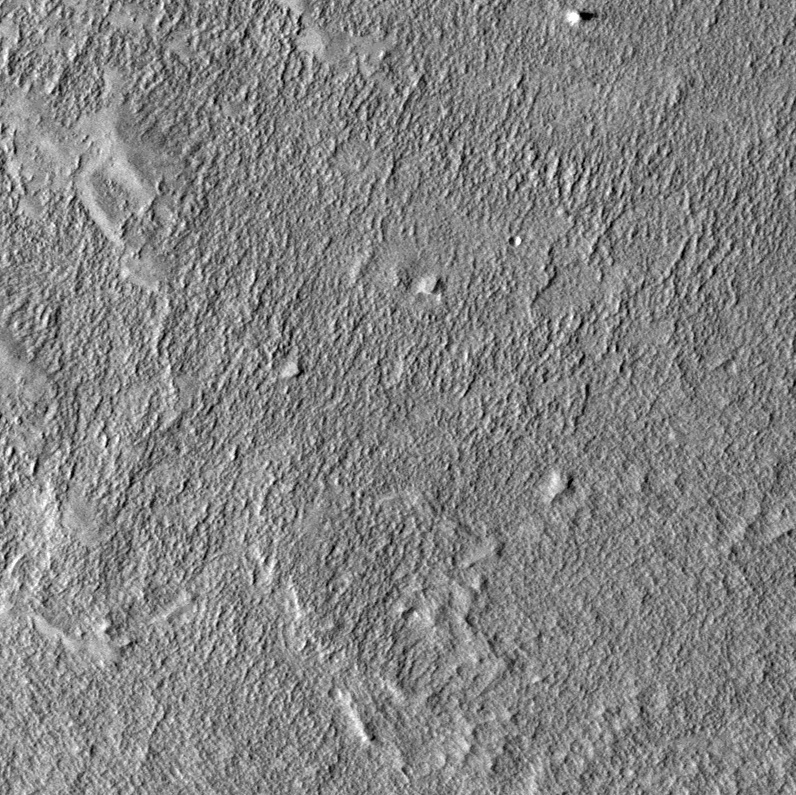dust_devil: (564, 8, 599, 27)
